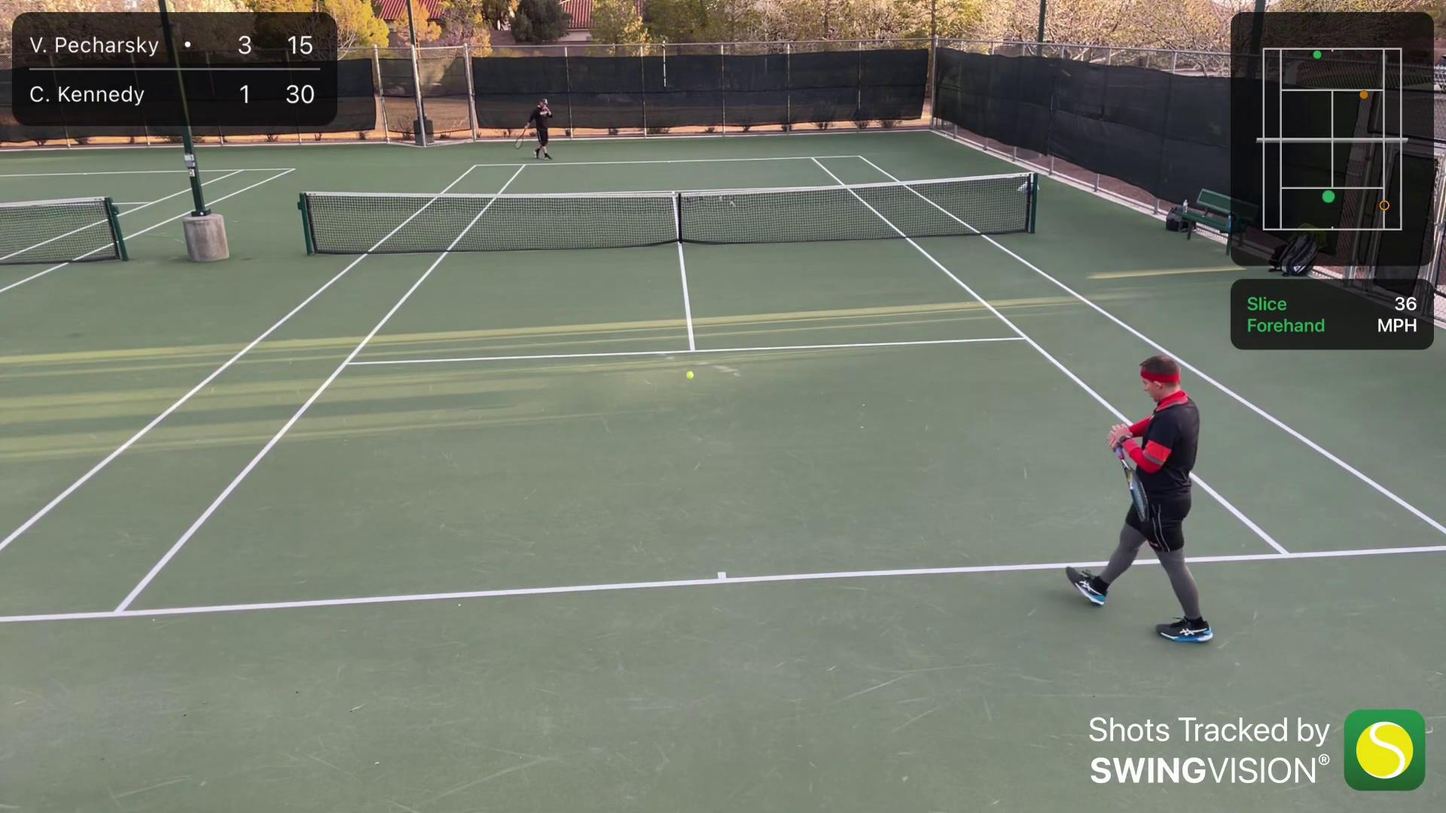ball: (684, 370, 696, 380)
